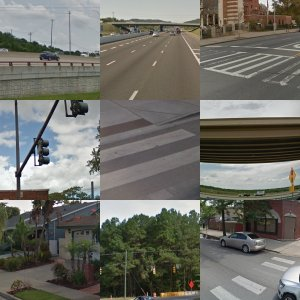汽車: (68, 257, 98, 286), (130, 284, 174, 299), (136, 129, 154, 148)
紅綠燈: (38, 123, 72, 195), (216, 23, 253, 68), (109, 262, 178, 274)
行人穿越道: (38, 34, 96, 78), (101, 80, 188, 92), (224, 265, 299, 276)
